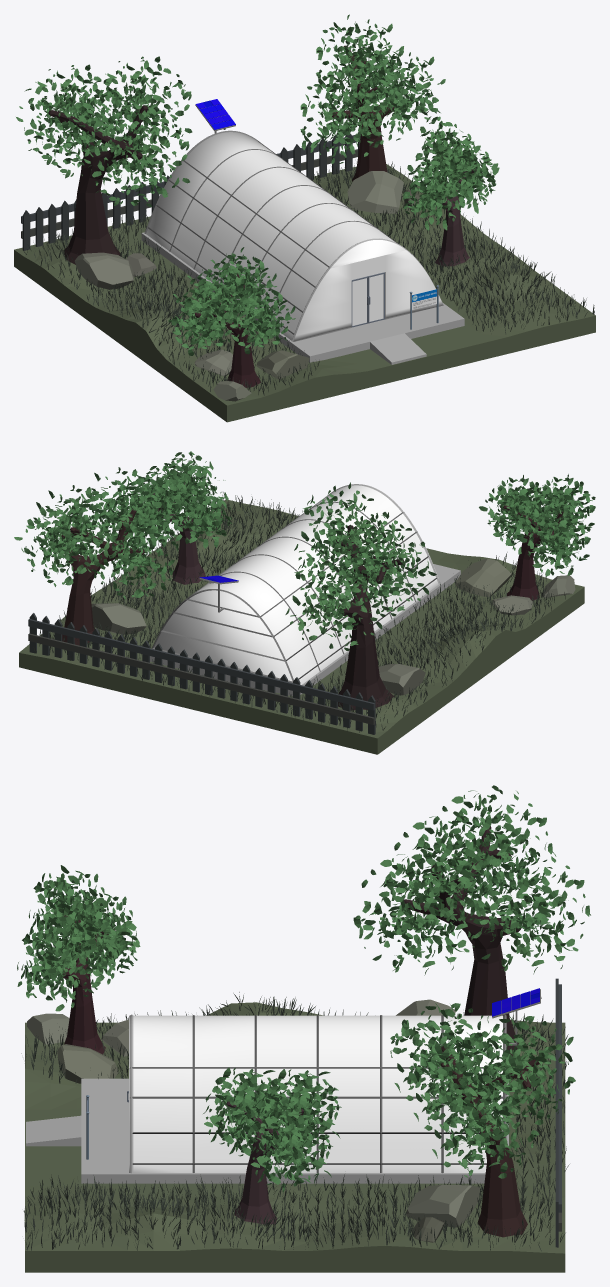
The model's file is asset.glb.
3 views of the same model, one above another, from view 1: azimuth 30°, elevation 25°; view 2: azimuth 150°, elevation 25°; view 3: azimuth 270°, elevation 25° (orthographic). The views are drawn at different scales.
Visible parts, largest first — view 1: Ground, Solar Dome, Solar Dome.001, Vert.003, Plane, Cube.002, Cube.018, Vert.001, Vert.002, Vert, Cube, Cube.017 (+5 smaller); view 2: Ground, Solar Dome, Plane, Vert.003, Plane.001, Plane.002, Vert.001, Solar Dome.001, Cube, Cube.002, Vert, Vert.002 (+6 smaller); view 3: Ground, Solar Dome, Solar Dome.001, Vert.003, Vert.001, Cube.002, Vert.002, Vert, Cube, Cube.020, Cube.012, Plane (+3 smaller).
Boxes of the visible parts, x1=… form: Ground: x1=14, y1=164, x2=595, y2=422; Solar Dome: x1=146, y1=132, x2=443, y2=341; Solar Dome.001: x1=141, y1=232, x2=464, y2=364; Vert.003: x1=48, y1=105, x2=147, y2=264; Plane: x1=22, y1=133, x2=360, y2=250; Cube.002: x1=347, y1=171, x2=403, y2=213; Cube.018: x1=74, y1=252, x2=133, y2=289; Vert.001: x1=332, y1=45, x2=394, y2=181; Vert.002: x1=435, y1=157, x2=476, y2=266; Vert: x1=194, y1=273, x2=260, y2=387; Cube: x1=256, y1=350, x2=309, y2=379; Cube.017: x1=194, y1=349, x2=232, y2=376; Ground: x1=19, y1=499, x2=584, y2=754; Solar Dome: x1=154, y1=484, x2=440, y2=684; Plane: x1=29, y1=613, x2=375, y2=734; Vert.003: x1=336, y1=525, x2=403, y2=710; Plane.001: x1=28, y1=633, x2=374, y2=724; Plane.002: x1=28, y1=619, x2=374, y2=710; Vert.001: x1=61, y1=509, x2=144, y2=645; Solar Dome.001: x1=150, y1=564, x2=460, y2=696; Cube: x1=455, y1=558, x2=512, y2=597; Cube.002: x1=91, y1=603, x2=146, y2=634; Vert: x1=503, y1=505, x2=563, y2=600; Vert.002: x1=142, y1=482, x2=205, y2=584; Ground: x1=24, y1=1002, x2=565, y2=1272; Solar Dome: x1=129, y1=1015, x2=502, y2=1172; Solar Dome.001: x1=26, y1=1078, x2=508, y2=1183; Vert.003: x1=403, y1=826, x2=522, y2=1056; Vert.001: x1=440, y1=1046, x2=539, y2=1237; Cube.002: x1=406, y1=1184, x2=479, y2=1227; Vert.002: x1=226, y1=1101, x2=303, y2=1224; Vert: x1=63, y1=913, x2=115, y2=1054; Cube: x1=57, y1=1044, x2=118, y2=1083; Cube.020: x1=27, y1=1013, x2=69, y2=1044; Cube.012: x1=132, y1=1132, x2=486, y2=1164; Plane: x1=555, y1=978, x2=558, y2=1247.
Size of the model in its own units: 13.62 by 6.73 by 12.66.
Materials: 54 (1 with a texture image).
